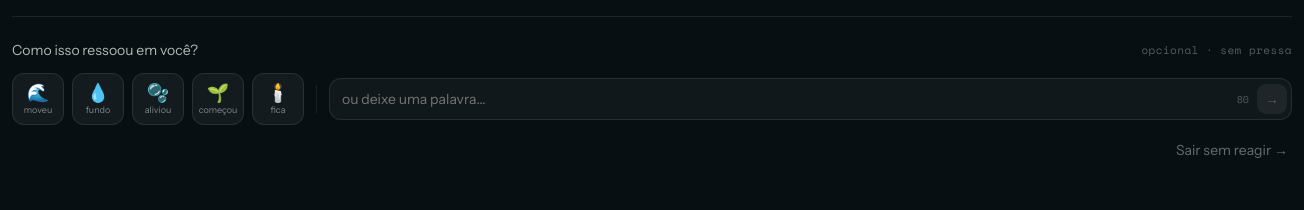
it: SynthesisReactionDock › mostra um erro sem travar a interação quando salvar a reação falha
This screenshot has width=1304, height=210.
Click the button "🫧 aliviou" at (158,99), box [132,73,184,125]
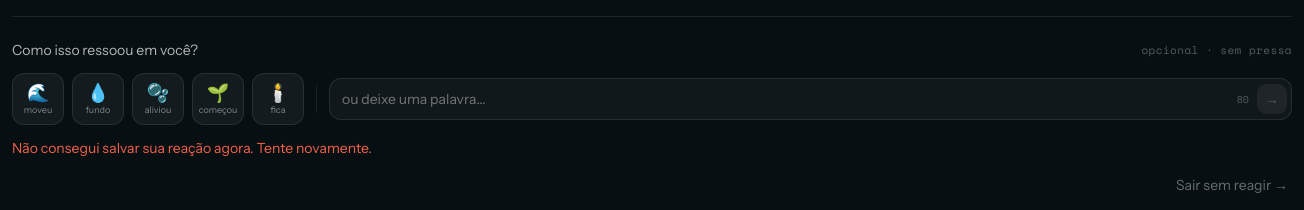
Check: the message shows "Não consegui salvar sua reação", box [12,139,372,157]
